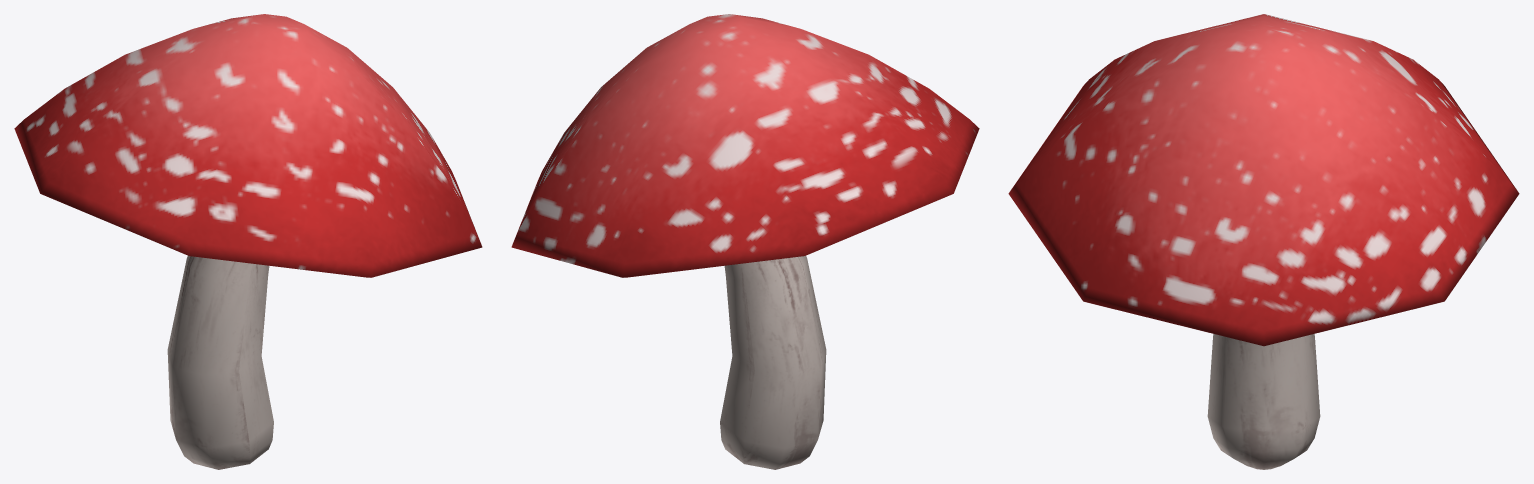
File: Mushroom_medium.fbx
3 renders of one model, left to right at view 1: azimuth 30°, elevation 25°; view 2: azimuth 150°, elevation 25°; view 3: azimuth 270°, elevation 25°, orthographic. The views are drawn at different scales.
Parts seen in each view (by area): view 1: Mushroom_medium; view 2: Mushroom_medium; view 3: Mushroom_medium.
Boxes of the visible parts, x1,y1,x2,y2 form: Mushroom_medium: (14,14,482,469); Mushroom_medium: (511,14,979,469); Mushroom_medium: (1008,14,1519,469).
Bounding box in the file's own units: 15.19 × 15.04 × 15.51.
